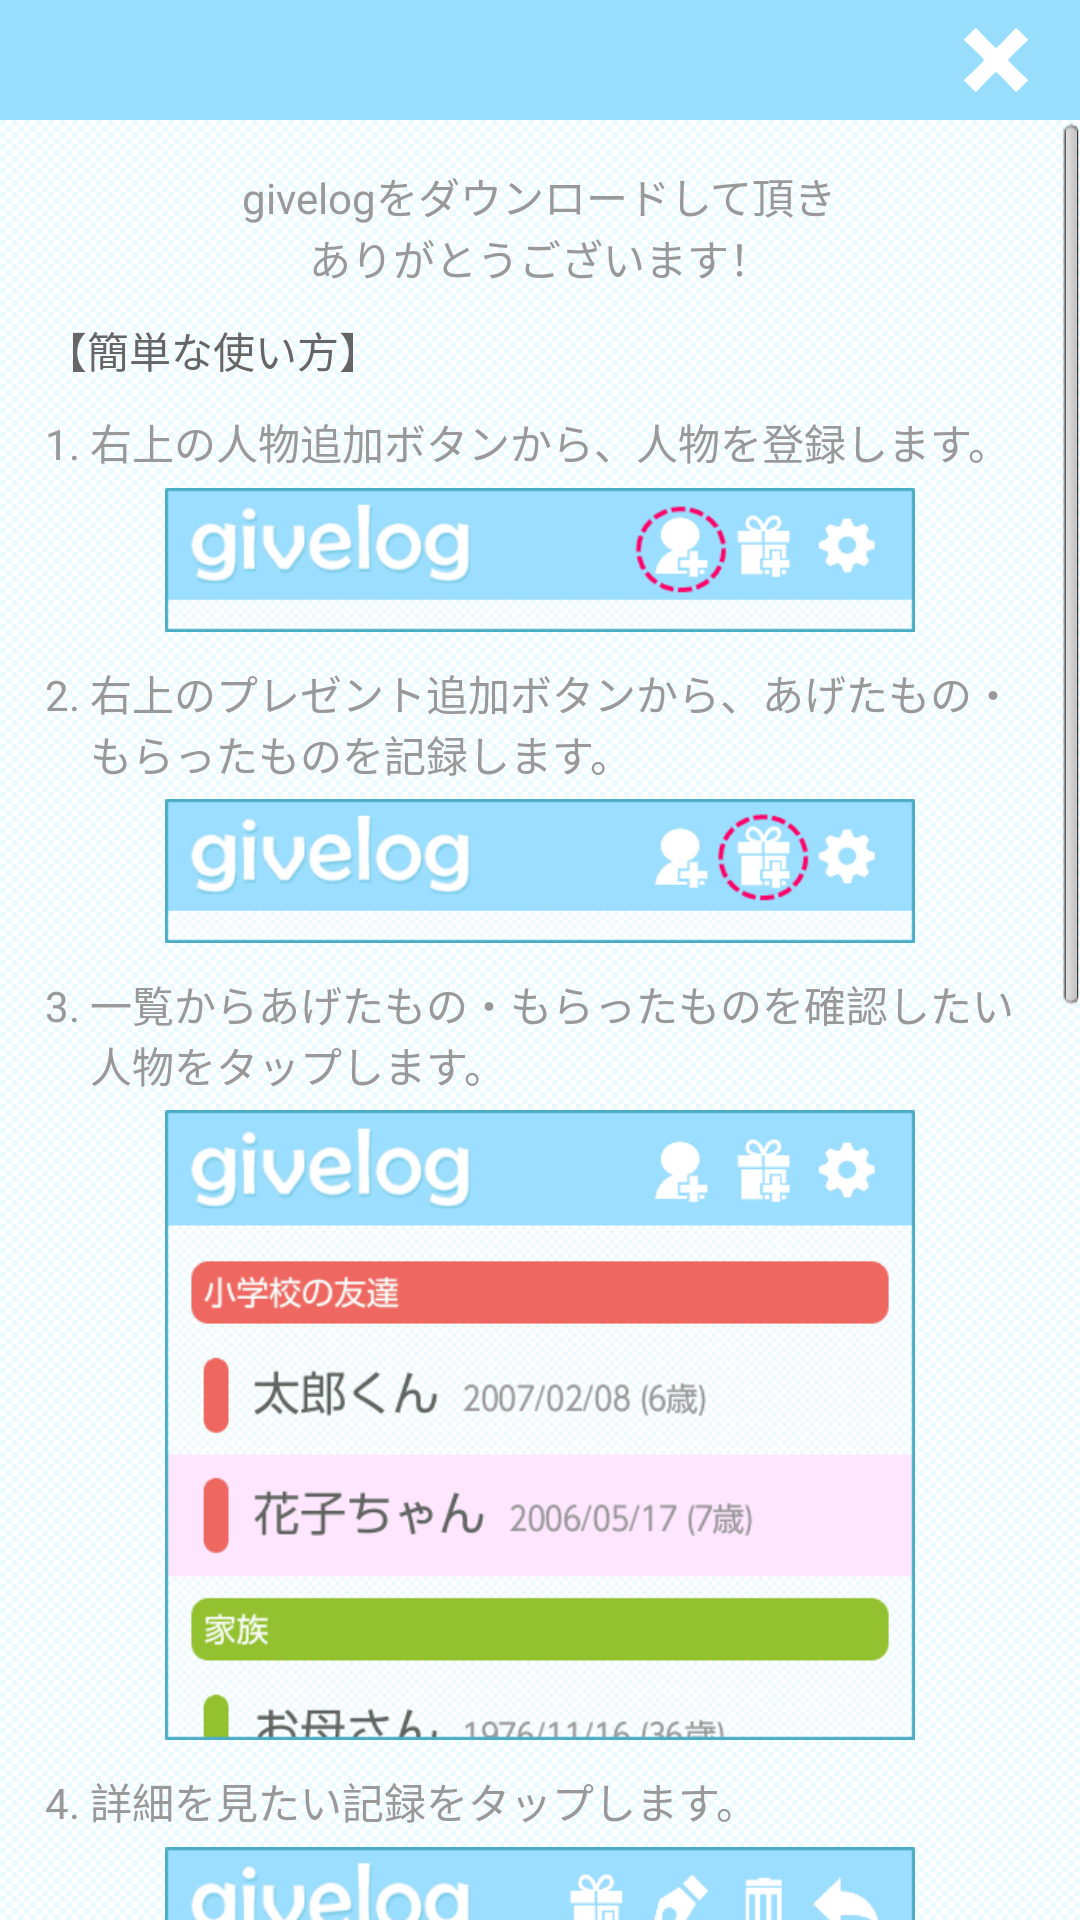

Where icons sit on this 1080 × 1920 app screen, as BBox(x1, y1, x2, y2):
close: BBox(964, 28, 1028, 92)
